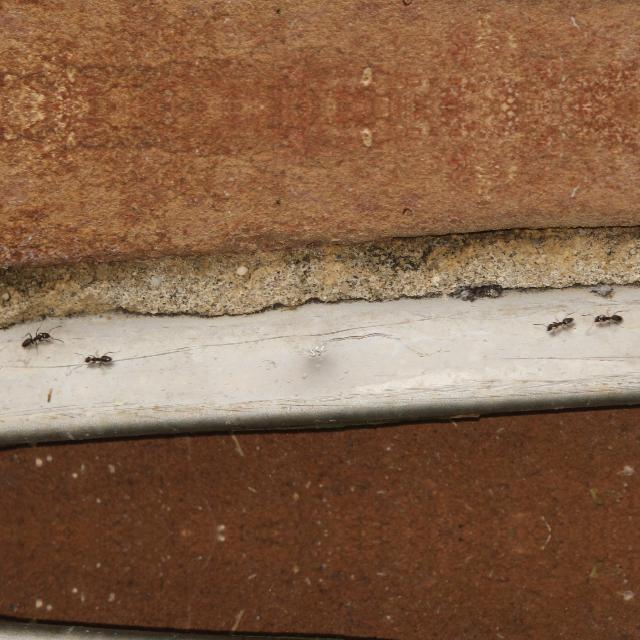Tapinoma: (13, 325, 55, 351), (542, 313, 578, 333), (76, 348, 116, 366), (589, 309, 627, 325)
